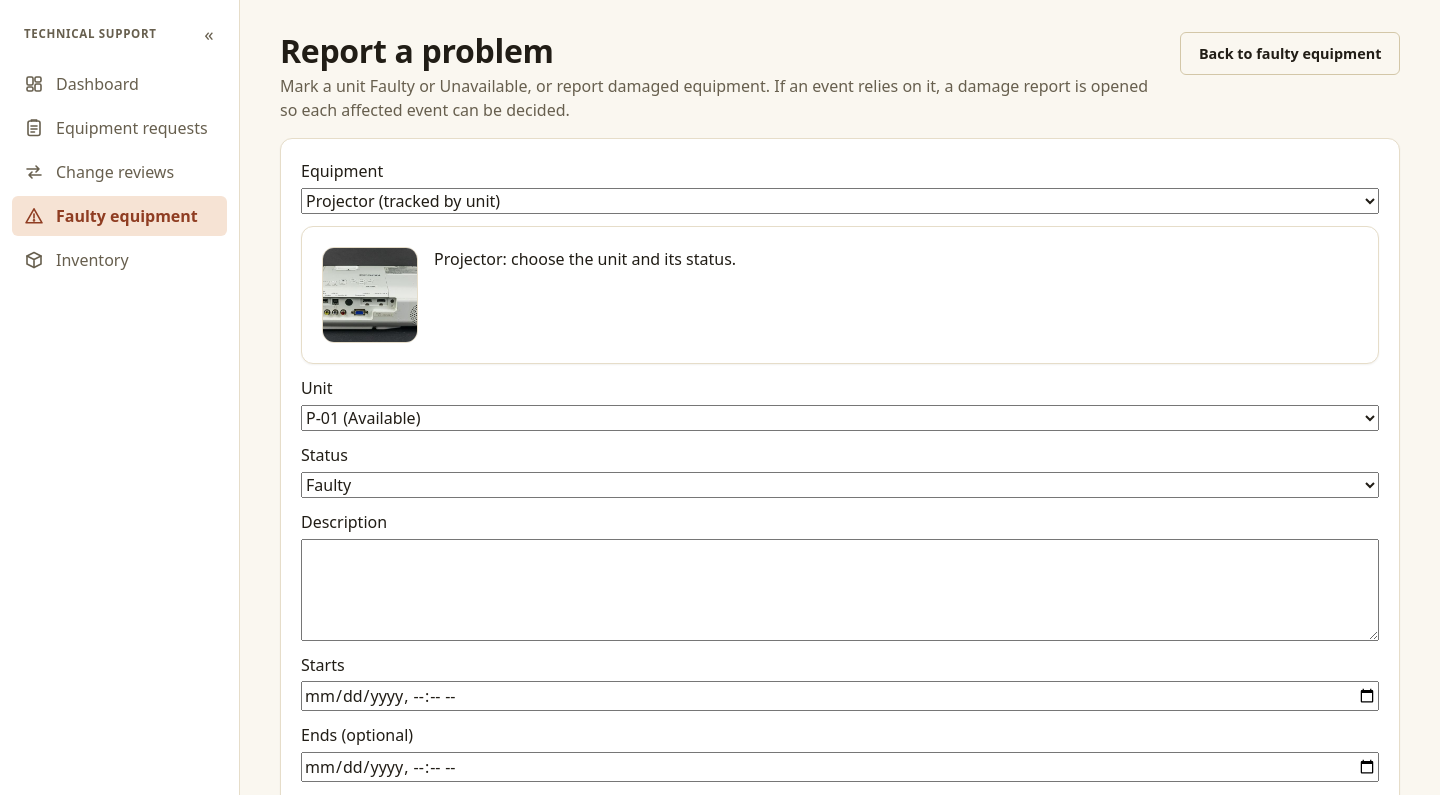
Test: Technical Support UI integration › TS03 TS09 (negative): leaving the form without saving changes nothing
The image size is (1440, 795).
Select "Faulty" in the dropdown labelled "Status" at coordinates (840, 485), box x1=301 y1=472 x2=1379 y2=498
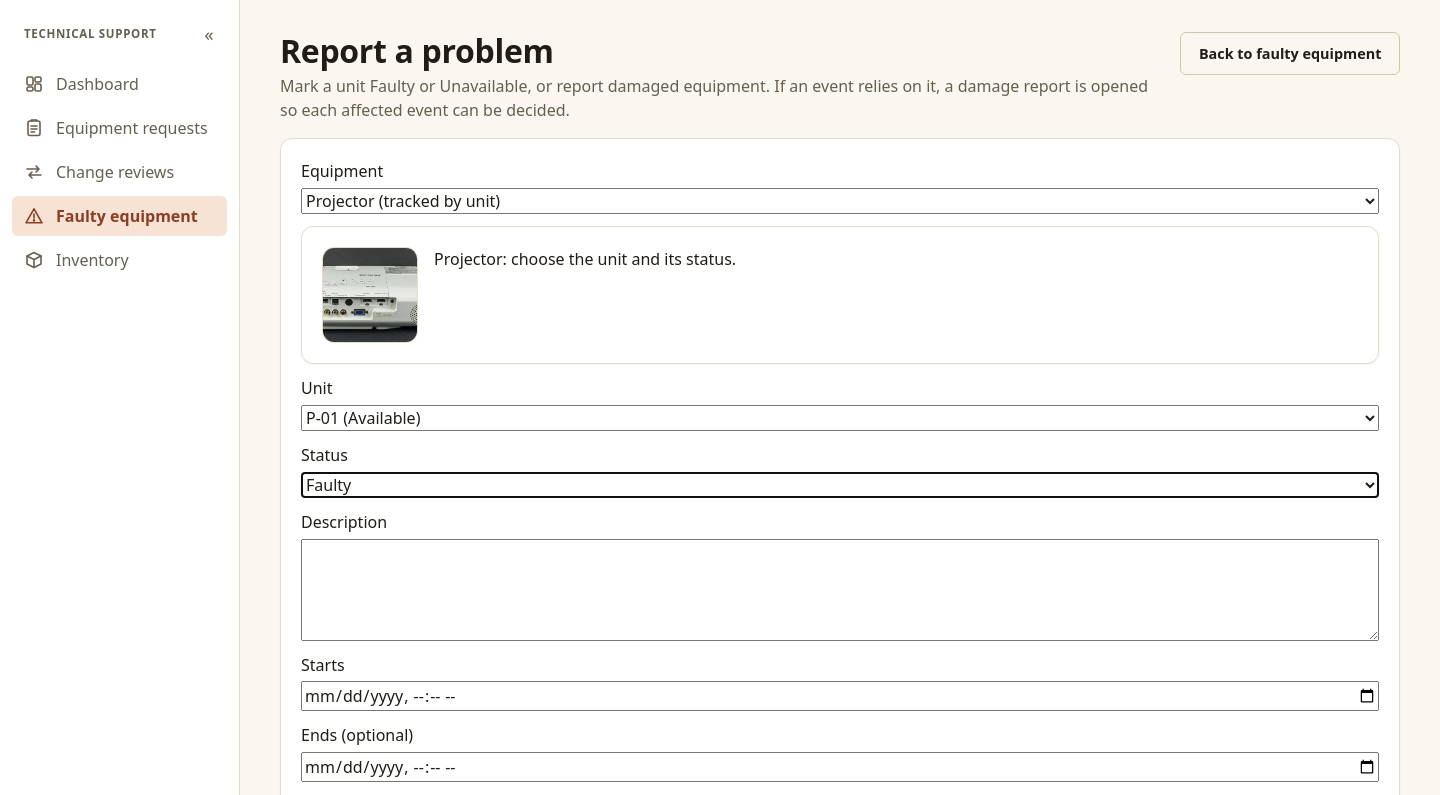
Click the link "Back to faulty equipment" at coordinates (1290, 53), box x1=1180 y1=32 x2=1400 y2=75
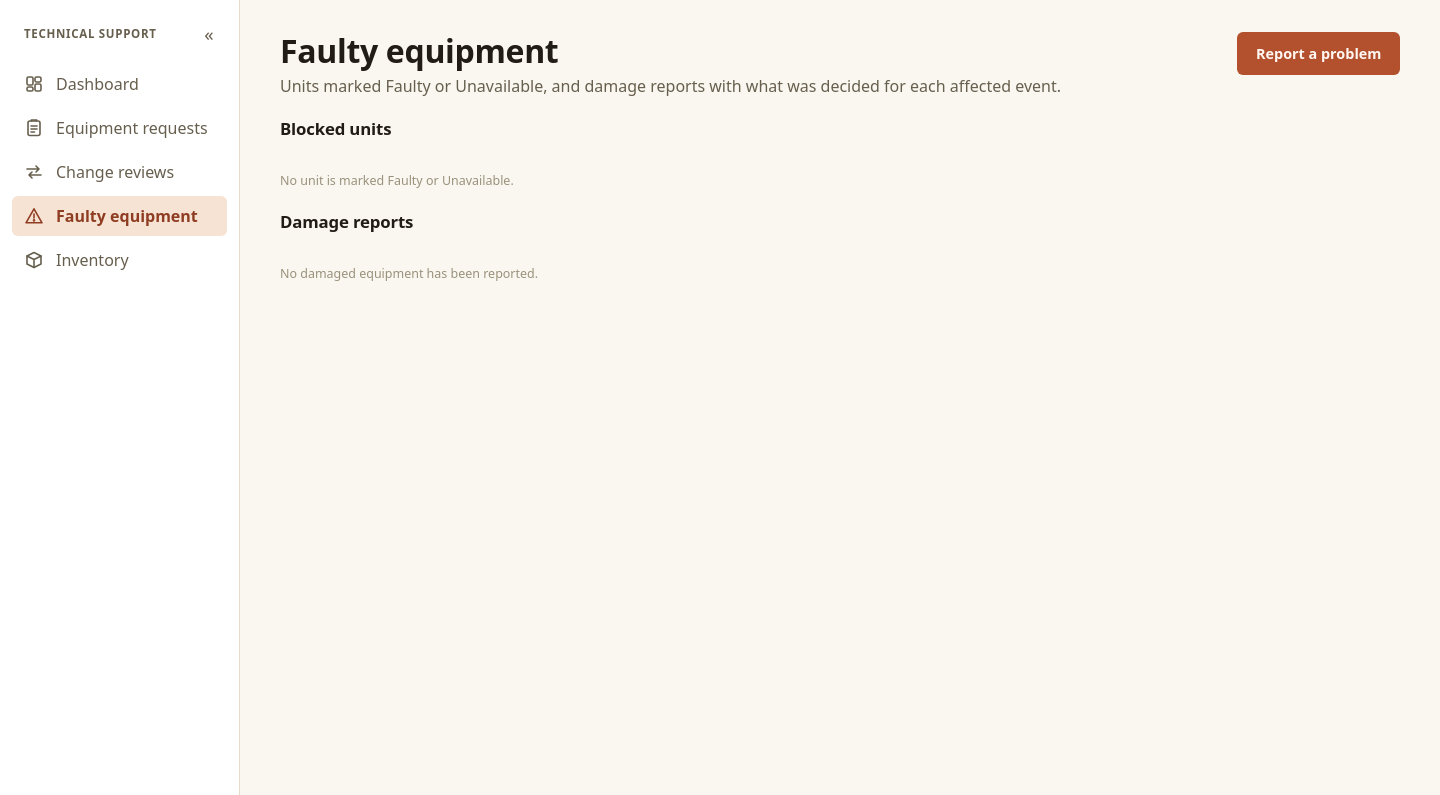
Check: the text "No unit is marked Faulty or Unavailable." is shown, box x1=280 y1=172 x2=514 y2=189
